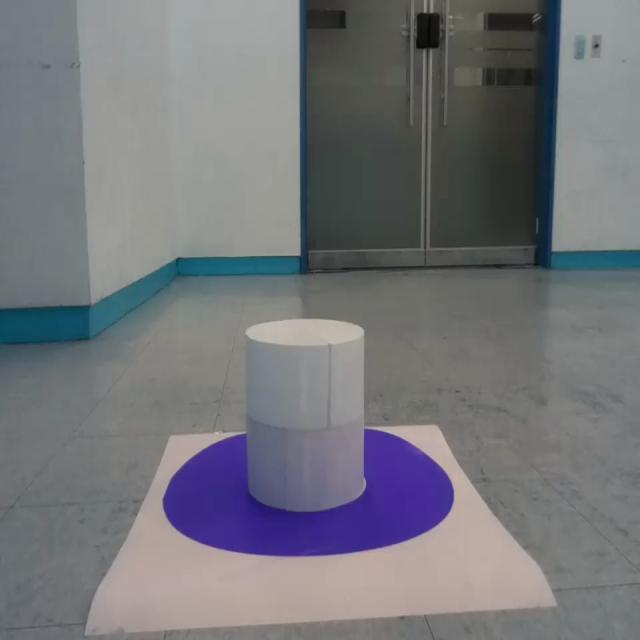cylinder: (244, 317, 367, 512)
